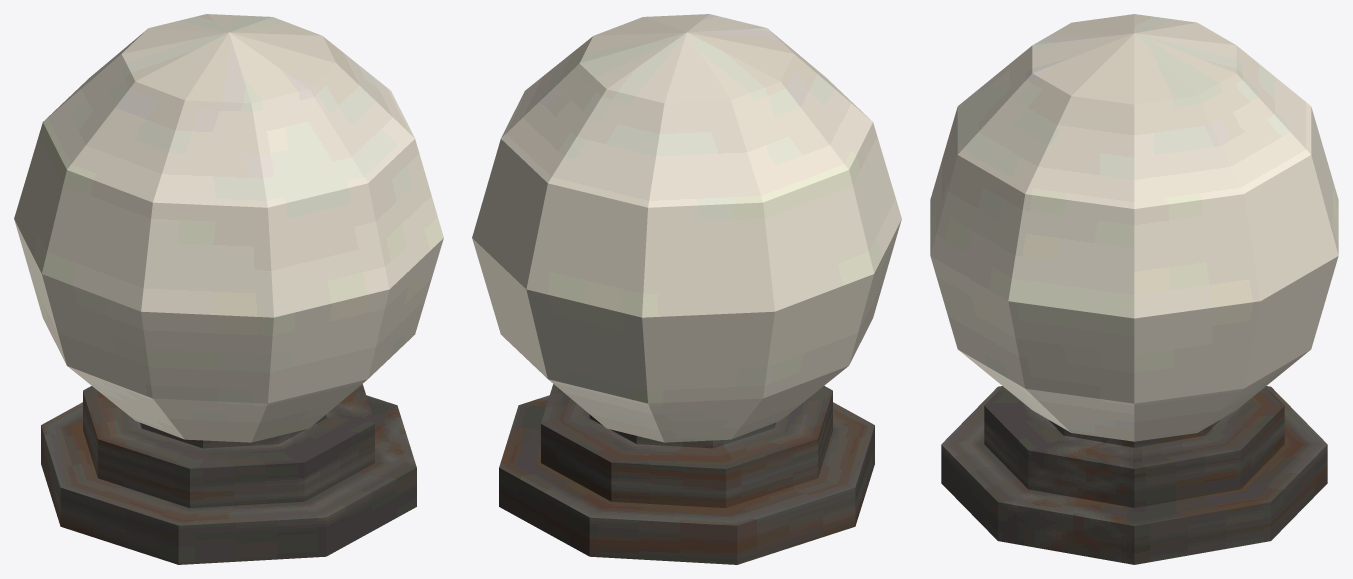
The model's file is GlobeLamp.fbx.
3 renders of one model, left to right at view 1: azimuth 30°, elevation 25°; view 2: azimuth 150°, elevation 25°; view 3: azimuth 270°, elevation 25°, orthographic.
Parts seen in each view (by area): view 1: GlobeLamp; view 2: GlobeLamp; view 3: GlobeLamp.
Boxes of the visible parts, bbox=[...] form: GlobeLamp: bbox=[14, 14, 443, 564]; GlobeLamp: bbox=[472, 14, 901, 564]; GlobeLamp: bbox=[930, 14, 1338, 564].
Size of the model in its own units: 0.3 by 0.347 by 0.2853.
